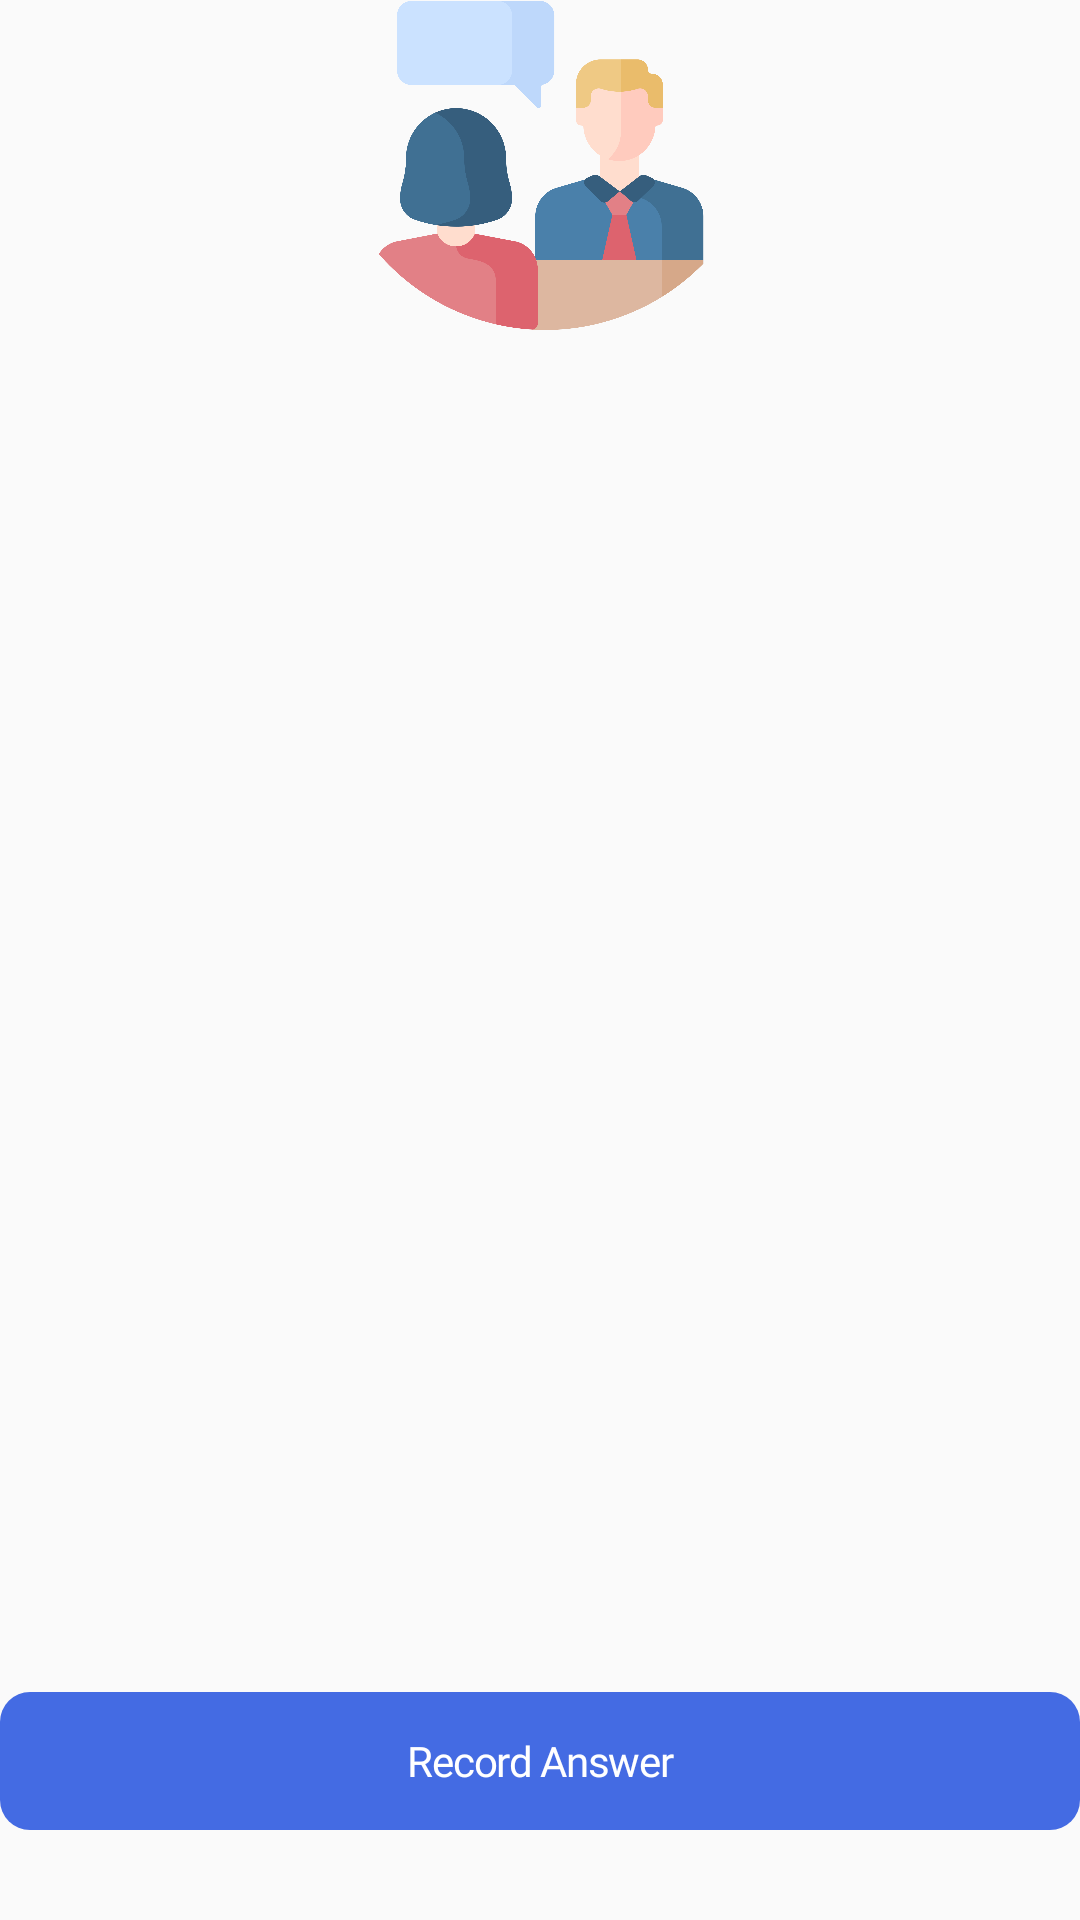

Icon click points for this 1080 × 1920 phone screenshot, format (x,y):
interview: (541,165)
